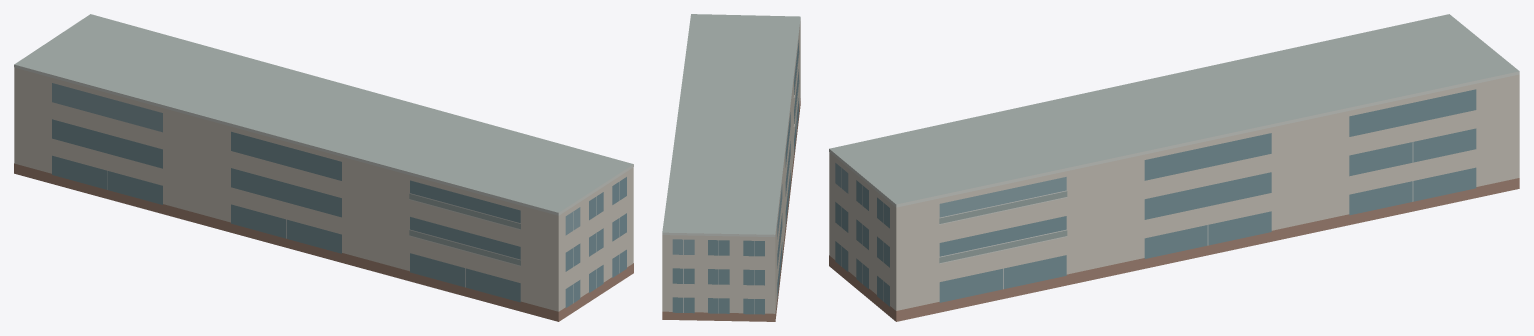
The model's file is survey-upis-32769878.glb.
3 views of the same model, side by side, from view 1: azimuth 30°, elevation 25°; view 2: azimuth 150°, elevation 25°; view 3: azimuth 270°, elevation 25° (orthographic). The views are drawn at different scales.
Visible parts, largest first — view 1: survey-upis-32769878.tmp; view 2: survey-upis-32769878.tmp; view 3: survey-upis-32769878.tmp.
Boxes of the visible parts, x1,y1,x2,y2 form: survey-upis-32769878.tmp: (14, 14, 633, 321); survey-upis-32769878.tmp: (662, 14, 800, 321); survey-upis-32769878.tmp: (829, 14, 1519, 321).
Size of the model in its own units: 31.84 by 9.15 by 48.77.
